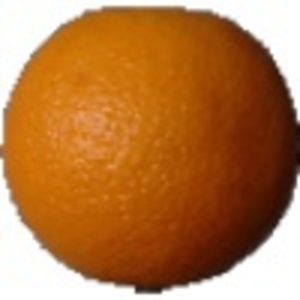laranja: (3, 3, 296, 295)
